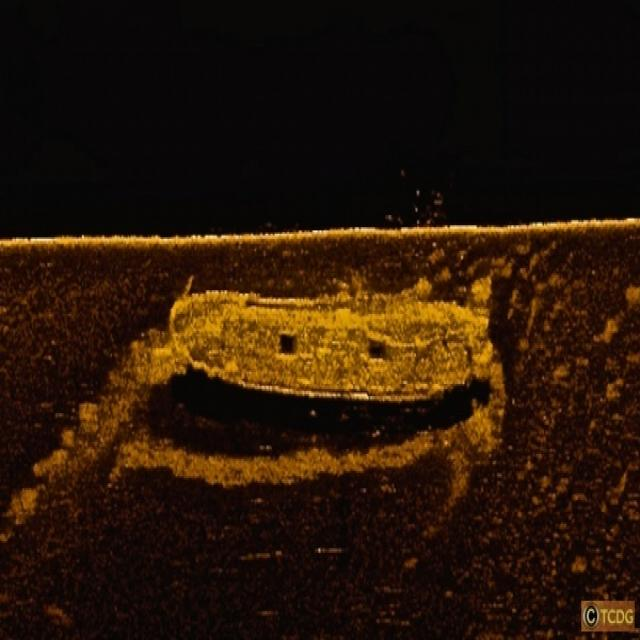ship: (169, 268, 499, 408)
